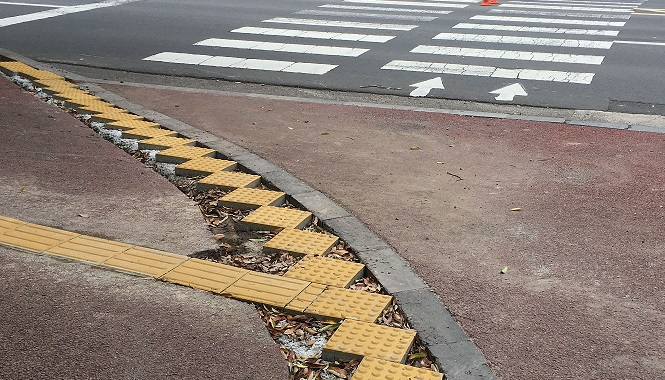guide_blocks: (185, 262, 394, 319), (4, 221, 167, 275), (138, 126, 268, 184), (222, 185, 331, 251), (332, 320, 437, 380), (5, 58, 82, 98), (92, 100, 154, 128)
